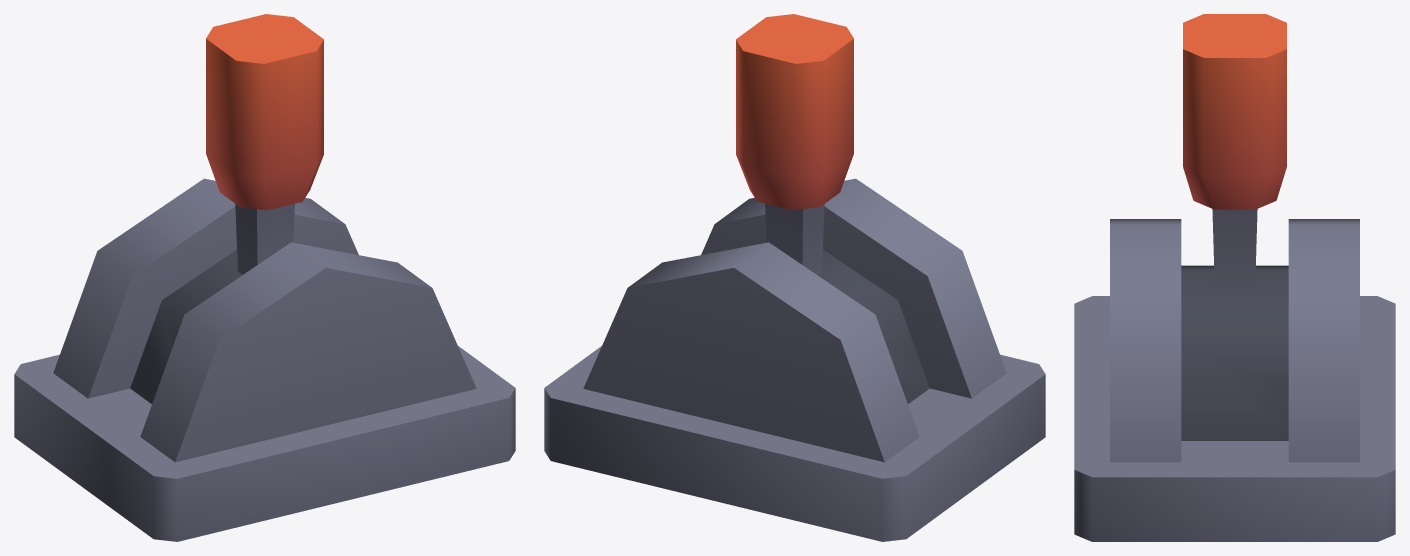
File: lever.glb
The picture shows the model from 3 angles, left to right: view 1: azimuth 30°, elevation 25°; view 2: azimuth 150°, elevation 25°; view 3: azimuth 270°, elevation 25°; orthographic projection. The views are drawn at different scales.
Parts seen in each view (by area): view 1: lever, handle; view 2: lever, handle; view 3: lever, handle.
Part boxes in pixels (x1,y1,x2,y2): lever: (14, 178, 515, 541); handle: (206, 14, 323, 274); lever: (544, 178, 1045, 541); handle: (736, 14, 853, 274); lever: (1074, 219, 1395, 541); handle: (1183, 14, 1286, 286).
Size of the model in its own units: 0.6 by 0.6418 by 0.45.
Materials: 1 (1 with a texture image).
